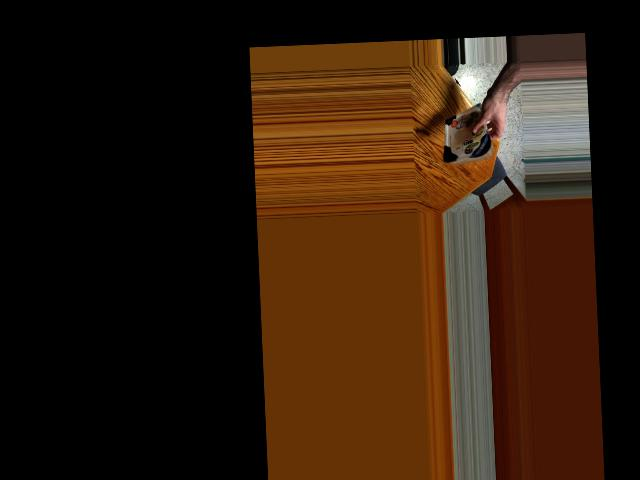cheese: (444, 114, 494, 167)
